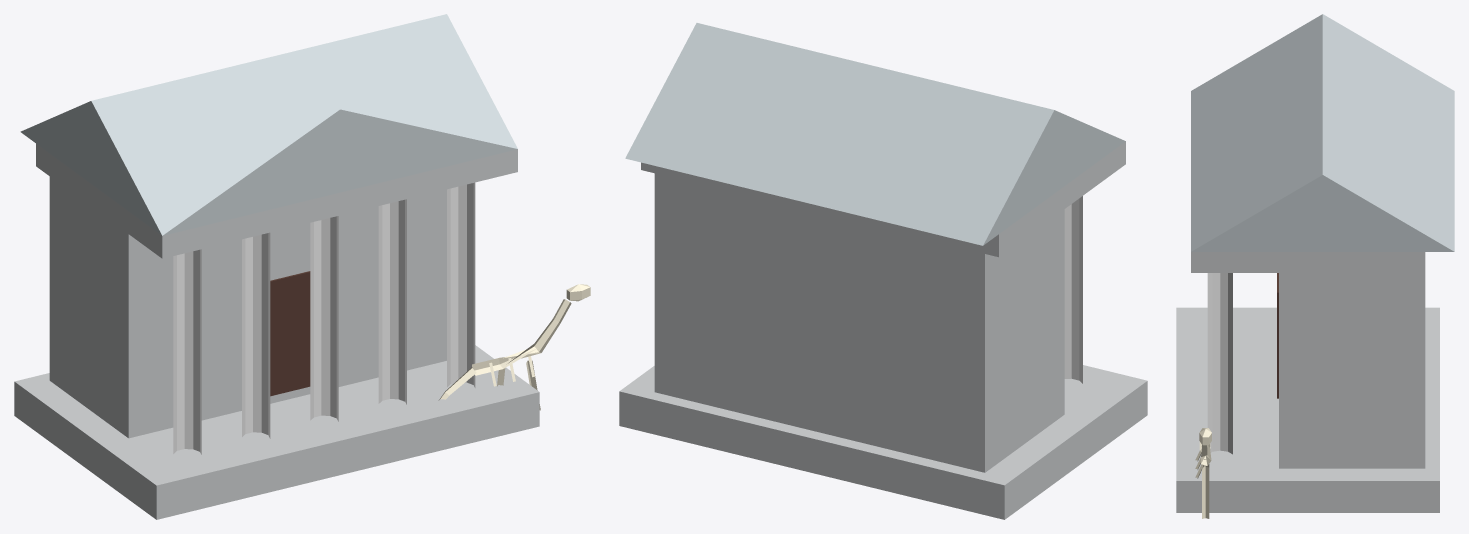
The model's file is museum.glb.
3 views of the same model, side by side, from view 1: azimuth 30°, elevation 25°; view 2: azimuth 150°, elevation 25°; view 3: azimuth 270°, elevation 25° (orthographic). The views are drawn at different scales.
Visible parts, largest first — view 1: museum; view 2: museum; view 3: museum.
Boxes of the visible parts, <box> form: museum: <box>14,14,590,519</box>; museum: <box>619,23,1147,519</box>; museum: <box>1176,14,1454,518</box>.
Size of the model in its own units: 1.64 by 1.25 by 0.95.
